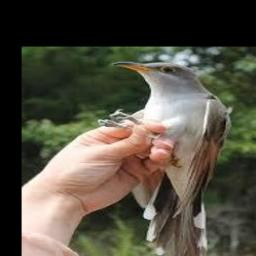Cuckoo: (102, 61, 231, 256)
